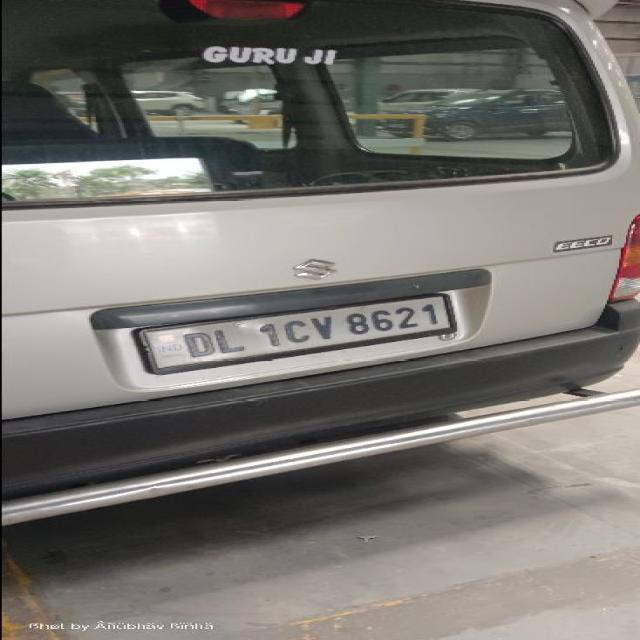license_plate: (132, 291, 460, 374)
